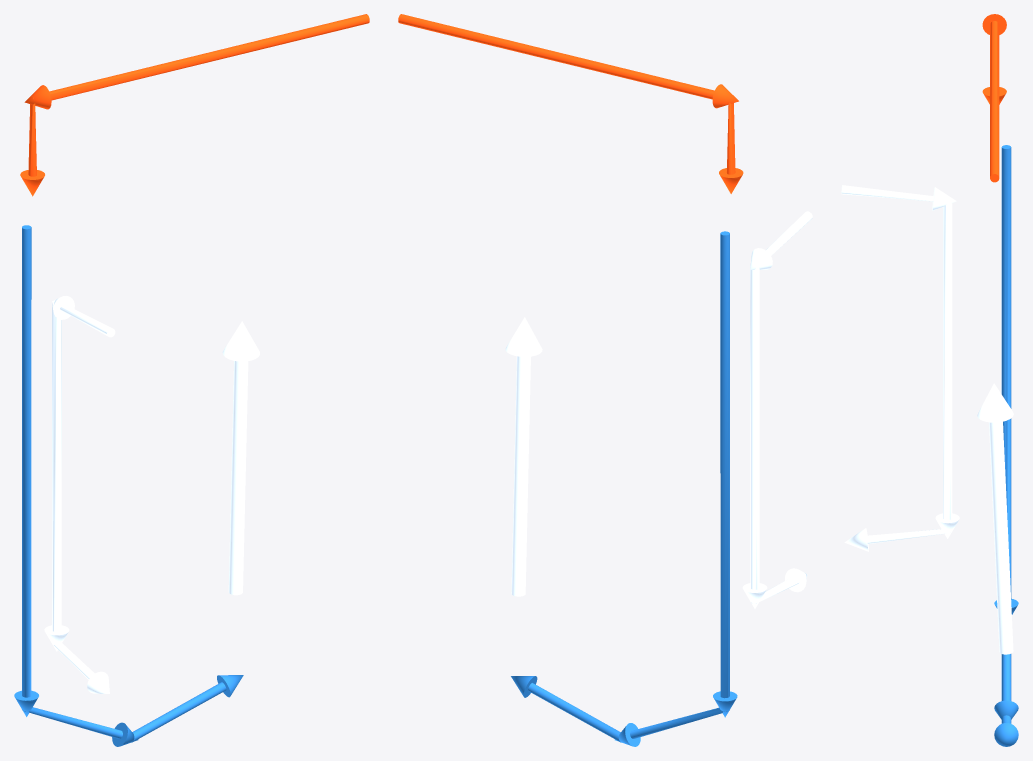
Rendered from falling_film_evaporator_flow.glb.
The picture shows the model from 3 angles, left to right: view 1: azimuth 30°, elevation 25°; view 2: azimuth 150°, elevation 25°; view 3: azimuth 270°, elevation 25°; orthographic projection. The views are drawn at different scales.
Parts seen in each view (by area): view 1: film_and_vapour, heating_steam, feed, vapour; view 2: film_and_vapour, heating_steam, feed, vapour; view 3: heating_steam, film_and_vapour, vapour, feed.
Part boxes in pixels (x1,y1,x2,y2): film_and_vapour: (14, 225, 243, 746); heating_steam: (44, 296, 115, 693); feed: (20, 14, 369, 196); vapour: (222, 321, 259, 595); film_and_vapour: (511, 231, 737, 746); heating_steam: (742, 211, 812, 608); feed: (398, 14, 743, 193); vapour: (505, 317, 542, 596); heating_steam: (841, 185, 959, 551); film_and_vapour: (994, 145, 1018, 746); vapour: (977, 383, 1013, 654); feed: (982, 14, 1006, 182).
Size of the model in its own units: 1.65 by 3.12 by 0.7542.
